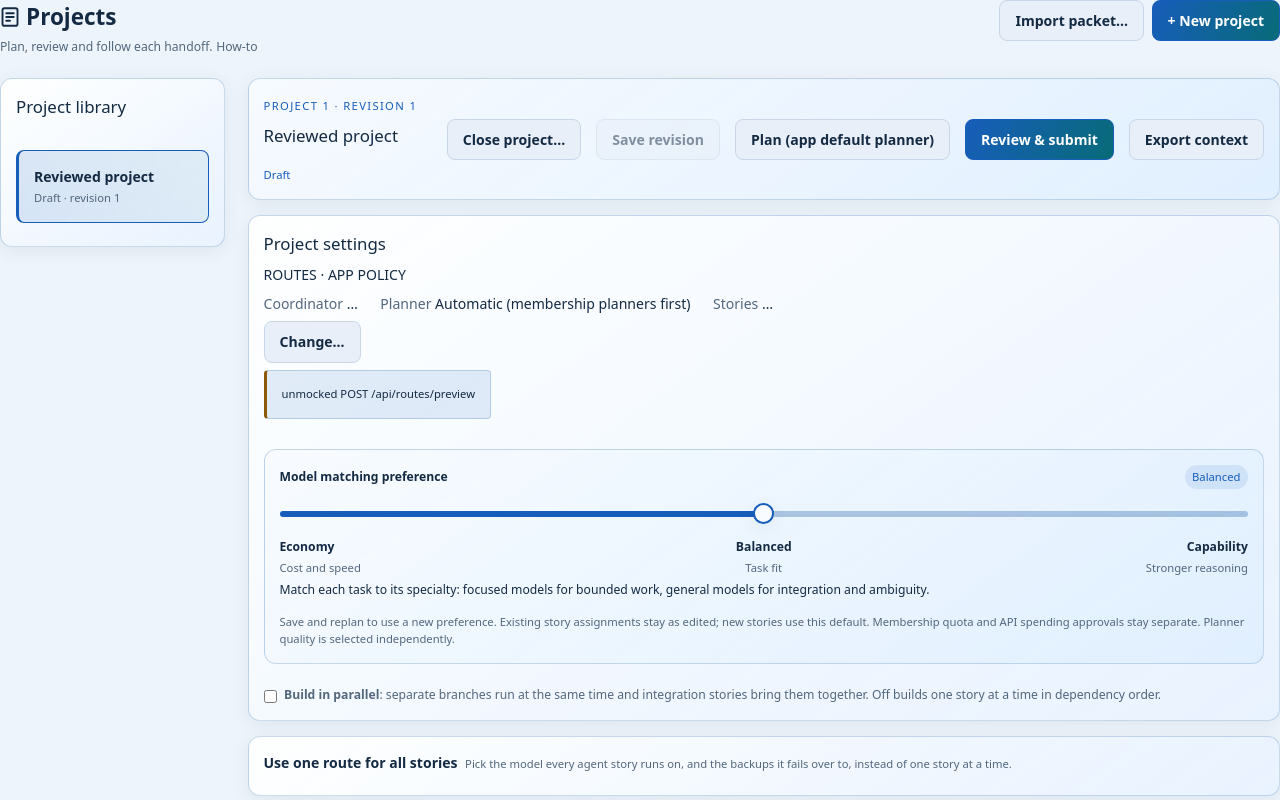
changing a mapped threshold leaves existing routes intact and uses an installed agent for manual stories
The width and height of the screenshot is (1280, 800).
Set the slider labelled "Model matching preference" to "0". click: (288, 514)
box: [280,493,1248,534]
(page scrolled)
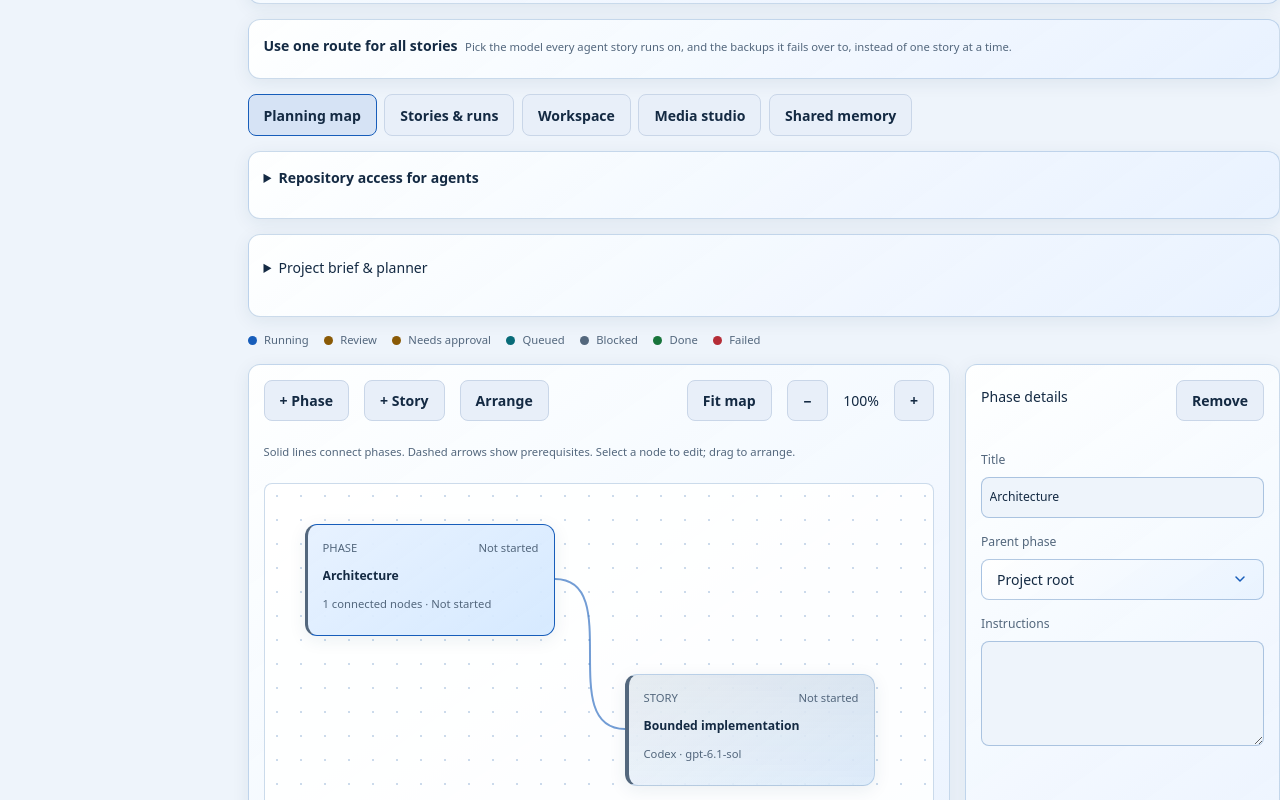
Click the button "+ Story". click: click(404, 400)
box: [364,380,445,421]
(page scrolled)
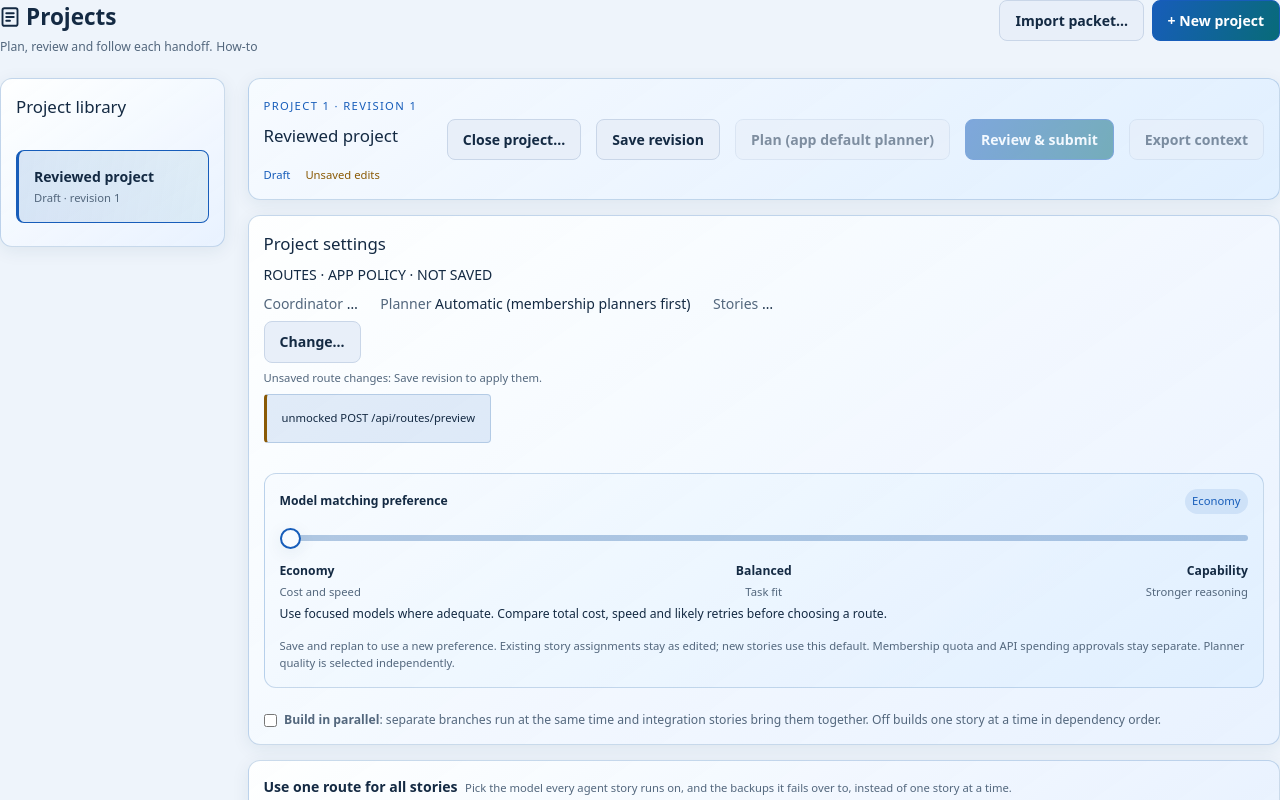
Click the button "Save revision". click: click(658, 139)
box: [596,119,720,160]
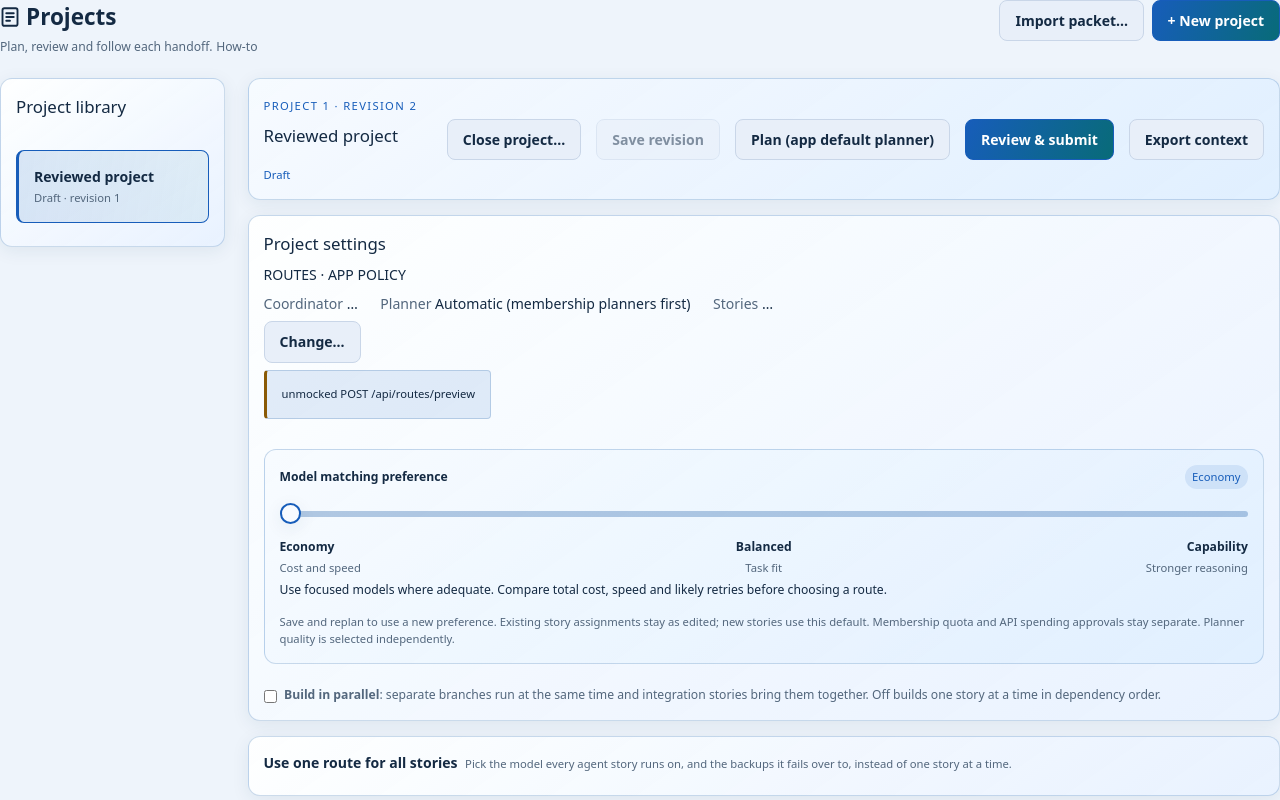
Click the button "Review & submit". click: click(1039, 139)
box: [965,119,1114,160]
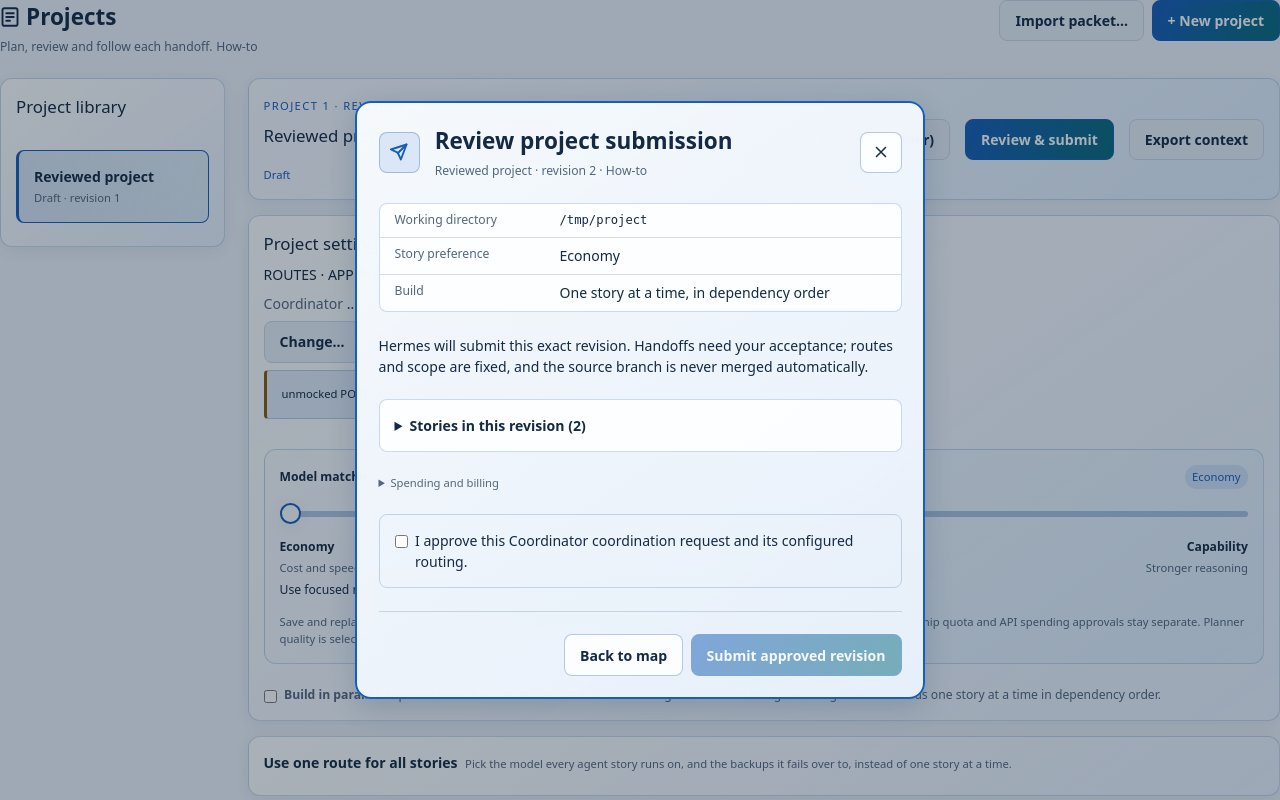
Expected: the text "Economy" is shown, [1184,465,1248,489]
Result: the text "Story preference" is shown at [394,245,489,262]
